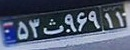1: (104, 11, 116, 30), (114, 10, 126, 27)
3: (28, 17, 42, 39)
5: (15, 19, 30, 41)
6: (76, 11, 89, 33)
9: (87, 9, 102, 30), (64, 13, 79, 33)
ث: (41, 17, 66, 36)
